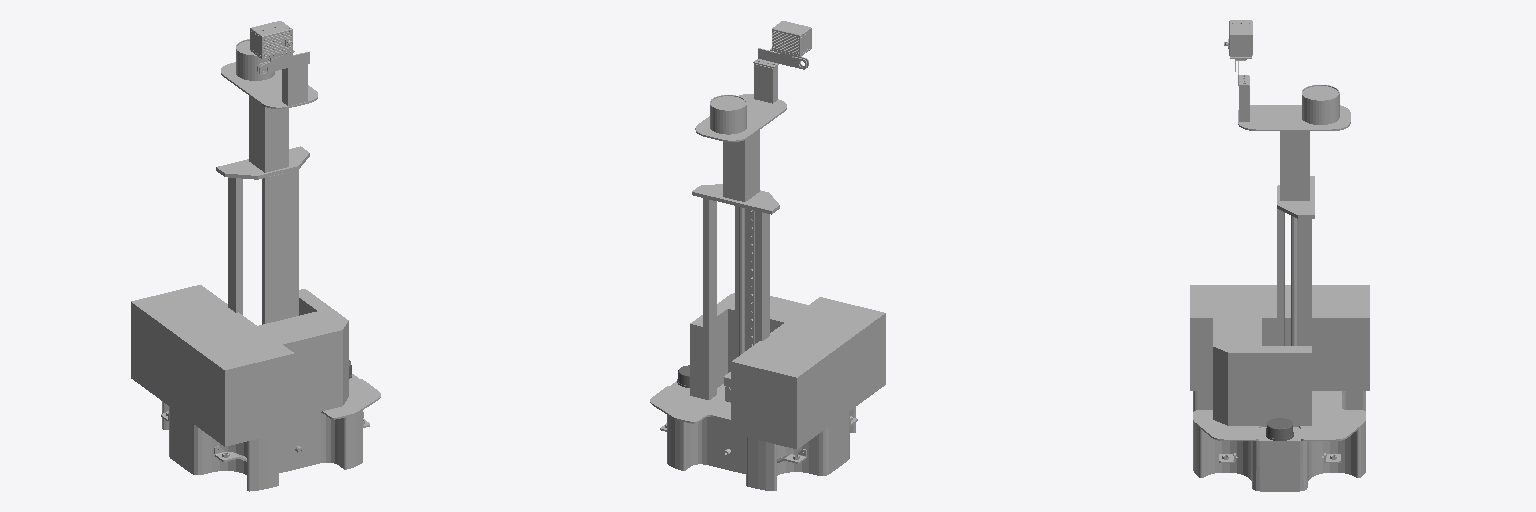
robot.urdf — WholeUrdfV7_1:
<?xml version="1.0" encoding="utf-8"?>
<!-- This URDF was automatically created by SolidWorks to URDF Exporter! Originally created by [author] ([email redacted]) 
     Commit Version: 1.5.1-0-g916b5db  Build Version: 1.5.7152.31018
     For more information, please see http://wiki.ros.org/sw_urdf_exporter -->
<robot
  name="WholeUrdfV7_1">
  <link
    name="Base_link">
    <inertial>
      <origin
        xyz="-0.044436 -0.0062652 0.2648"
        rpy="0 0 0" />
      <mass
        value="58.651" />
      <inertia
        ixx="0.94847"
        ixy="0.095512"
        ixz="0.0011811"
        iyy="0.93891"
        iyz="3.2417E-06"
        izz="1.4338" />
    </inertial>
    <visual>
      <origin
        xyz="0 0 0"
        rpy="0 0 0" />
      <geometry>
        <mesh
          filename="package://WholeUrdfV7_1/meshes/Base_link.STL" />
      </geometry>
      <material
        name="">
        <color
          rgba="0.75294 0.75294 0.75294 1" />
      </material>
    </visual>
    <collision>
      <origin
        xyz="0 0 0"
        rpy="0 0 0" />
      <geometry>
        <mesh
          filename="package://WholeUrdfV7_1/meshes/Base_link.STL" />
      </geometry>
    </collision>
  </link>
  <link
    name="Radar_2D">
    <inertial>
      <origin
        xyz="3.81358176767543E-05 0.0168839488939113 5.55414040220947E-09"
        rpy="0 0 0" />
      <mass
        value="0.196744590422997" />
      <inertia
        ixx="8.3896262005527E-05"
        ixy="1.07929084151387E-07"
        ixz="-3.29780769807581E-11"
        iyy="0.000128231684683343"
        iyz="-1.07899976052585E-11"
        izz="8.42188760618159E-05" />
    </inertial>
    <visual>
      <origin
        xyz="0 0 0"
        rpy="0 0 0" />
      <geometry>
        <mesh
          filename="package://WholeUrdfV7_1/meshes/Radar_2D.STL" />
      </geometry>
      <material
        name="">
        <color
          rgba="0.498039215686275 0.498039215686275 0.498039215686275 1" />
      </material>
    </visual>
    <collision>
      <origin
        xyz="0 0 0"
        rpy="0 0 0" />
      <geometry>
        <mesh
          filename="package://WholeUrdfV7_1/meshes/Radar_2D.STL" />
      </geometry>
    </collision>
  </link>
  <joint
    name="JT_Radar_2D"
    type="fixed">
    <origin
      xyz="0.212 0 0.1475"
      rpy="1.5708 0 -3.1416" />
    <parent
      link="Base_link" />
    <child
      link="Radar_2D" />
    <axis
      xyz="0 0 0" />
  </joint>
  <link
    name="ArmBase">
    <inertial>
      <origin
        xyz="-0.0213735915688368 -0.000303857997027306 -0.023239809881092"
        rpy="0 0 0" />
      <mass
        value="1.92525017908569" />
      <inertia
        ixx="0.0042883271151622"
        ixy="2.36727747261914E-06"
        ixz="-0.000111008140398769"
        iyy="0.00317248222624626"
        iyz="3.33448756395564E-06"
        izz="0.00186223637582919" />
    </inertial>
    <visual>
      <origin
        xyz="0 0 0"
        rpy="0 0 0" />
      <geometry>
        <mesh
          filename="package://WholeUrdfV7_1/meshes/ArmBase.STL" />
      </geometry>
      <material
        name="">
        <color
          rgba="0.752941176470588 0.752941176470588 0.752941176470588 1" />
      </material>
    </visual>
    <collision>
      <origin
        xyz="0 0 0"
        rpy="0 0 0" />
      <geometry>
        <mesh
          filename="package://WholeUrdfV7_1/meshes/ArmBase.STL" />
      </geometry>
    </collision>
  </link>
  <joint
    name="JT_ArmBase"
    type="prismatic">
    <origin
      xyz="0.031926 0.0756 0.3625"
      rpy="0 0 1.5708" />
    <parent
      link="Base_link" />
    <child
      link="ArmBase" />
    <axis
      xyz="0 0 1" />
    <limit
      lower="0"
      upper="0.3"
      effort="0"
      velocity="0" />
  </joint>
  <link
    name="UniWheelBase_LB">
    <inertial>
      <origin
        xyz="0.0182260960322877 2.77555756156289E-17 -0.0287708999844922"
        rpy="0 0 0" />
      <mass
        value="0.0847351495375796" />
      <inertia
        ixx="3.49474283390519E-05"
        ixy="3.57316634759339E-20"
        ixz="-1.16340041790673E-05"
        iyy="6.07135705376021E-05"
        iyz="1.55453116498476E-20"
        izz="3.34756139191196E-05" />
    </inertial>
    <visual>
      <origin
        xyz="0 0 0"
        rpy="0 0 0" />
      <geometry>
        <mesh
          filename="package://WholeUrdfV7_1/meshes/UniWheelBase_LB.STL" />
      </geometry>
      <material
        name="">
        <color
          rgba="0.752941176470588 0.752941176470588 0.752941176470588 1" />
      </material>
    </visual>
    <collision>
      <origin
        xyz="0 0 0"
        rpy="0 0 0" />
      <geometry>
        <mesh
          filename="package://WholeUrdfV7_1/meshes/UniWheelBase_LB.STL" />
      </geometry>
    </collision>
  </link>
  <joint
    name="JT_UniWheelBase_LB"
    type="continuous">
    <origin
      xyz="-0.200000000000008 0.14349999999999 0"
      rpy="3.14159265358979 0 -3.14159265358974" />
    <parent
      link="Base_link" />
    <child
      link="UniWheelBase_LB" />
    <axis
      xyz="0 0 1" />
  </joint>
  <link
    name="UniWheel_LB">
    <inertial>
      <origin
        xyz="3.81426299069648E-08 -2.14332611381263E-08 -1.63217898641044E-08"
        rpy="0 0 0" />
      <mass
        value="0.182722986137927" />
      <inertia
        ixx="6.49983805484529E-05"
        ixy="4.06903456327858E-11"
        ixz="-5.914560273148E-11"
        iyy="0.000123033645333284"
        iyz="-1.60428918574936E-11"
        izz="6.5000658486138E-05" />
    </inertial>
    <visual>
      <origin
        xyz="0 0 0"
        rpy="0 0 0" />
      <geometry>
        <mesh
          filename="package://WholeUrdfV7_1/meshes/UniWheel_LB.STL" />
      </geometry>
      <material
        name="">
        <color
          rgba="0.752941176470588 0.752941176470588 0.752941176470588 1" />
      </material>
    </visual>
    <collision>
      <origin
        xyz="0 0 0"
        rpy="0 0 0" />
      <geometry>
        <mesh
          filename="package://WholeUrdfV7_1/meshes/UniWheel_LB.STL" />
      </geometry>
    </collision>
  </link>
  <joint
    name="JT_UniWheel_LB"
    type="continuous">
    <origin
      xyz="0.024 0 -0.0155"
      rpy="3.14159265358979 1.5707963267949 0" />
    <parent
      link="UniWheelBase_LB" />
    <child
      link="UniWheel_LB" />
    <axis
      xyz="0 1 0" />
  </joint>
  <link
    name="UniWheelBase_RB">
    <inertial>
      <origin
        xyz="0.0182260960322876 2.77555756156289E-17 -0.0287708999844922"
        rpy="0 0 0" />
      <mass
        value="0.0847351495375796" />
      <inertia
        ixx="3.49474283390519E-05"
        ixy="3.12437677540417E-20"
        ixz="-1.16340041790674E-05"
        iyy="6.07135705376021E-05"
        iyz="5.18171751242525E-21"
        izz="3.34756139191196E-05" />
    </inertial>
    <visual>
      <origin
        xyz="0 0 0"
        rpy="0 0 0" />
      <geometry>
        <mesh
          filename="package://WholeUrdfV7_1/meshes/UniWheelBase_RB.STL" />
      </geometry>
      <material
        name="">
        <color
          rgba="0.752941176470588 0.752941176470588 0.752941176470588 1" />
      </material>
    </visual>
    <collision>
      <origin
        xyz="0 0 0"
        rpy="0 0 0" />
      <geometry>
        <mesh
          filename="package://WholeUrdfV7_1/meshes/UniWheelBase_RB.STL" />
      </geometry>
    </collision>
  </link>
  <joint
    name="JT_UniWheelBase_RB"
    type="continuous">
    <origin
      xyz="-0.199999999999992 -0.14350000000001 0"
      rpy="-3.14159265358979 0 -3.14159265358974" />
    <parent
      link="Base_link" />
    <child
      link="UniWheelBase_RB" />
    <axis
      xyz="0 0 1" />
  </joint>
  <link
    name="UniWheel_RB">
    <inertial>
      <origin
        xyz="3.81426299086995E-08 -2.14332611658818E-08 -1.632178989186E-08"
        rpy="0 0 0" />
      <mass
        value="0.182722986137927" />
      <inertia
        ixx="6.49983805484528E-05"
        ixy="4.0690345180762E-11"
        ixz="-5.91456027302949E-11"
        iyy="0.000123033645333284"
        iyz="-1.60428918134392E-11"
        izz="6.5000658486138E-05" />
    </inertial>
    <visual>
      <origin
        xyz="0 0 0"
        rpy="0 0 0" />
      <geometry>
        <mesh
          filename="package://WholeUrdfV7_1/meshes/UniWheel_RB.STL" />
      </geometry>
      <material
        name="">
        <color
          rgba="0.752941176470588 0.752941176470588 0.752941176470588 1" />
      </material>
    </visual>
    <collision>
      <origin
        xyz="0 0 0"
        rpy="0 0 0" />
      <geometry>
        <mesh
          filename="package://WholeUrdfV7_1/meshes/UniWheel_RB.STL" />
      </geometry>
    </collision>
  </link>
  <joint
    name="JT_UniWheel_RB"
    type="continuous">
    <origin
      xyz="0.024 0 -0.0155"
      rpy="0 1.5707963267949 0" />
    <parent
      link="UniWheelBase_RB" />
    <child
      link="UniWheel_RB" />
    <axis
      xyz="0 1 0" />
  </joint>
  <link
    name="UniWheelBase_RF">
    <inertial>
      <origin
        xyz="0.0182260960322877 0 -0.0287708999844922"
        rpy="0 0 0" />
      <mass
        value="0.0847351495375795" />
      <inertia
        ixx="3.49474283390519E-05"
        ixy="3.4880166385261E-20"
        ixz="-1.16340041790674E-05"
        iyy="6.07135705376022E-05"
        iyz="1.7847571585088E-20"
        izz="3.34756139191196E-05" />
    </inertial>
    <visual>
      <origin
        xyz="0 0 0"
        rpy="0 0 0" />
      <geometry>
        <mesh
          filename="package://WholeUrdfV7_1/meshes/UniWheelBase_RF.STL" />
      </geometry>
      <material
        name="">
        <color
          rgba="0.752941176470588 0.752941176470588 0.752941176470588 1" />
      </material>
    </visual>
    <collision>
      <origin
        xyz="0 0 0"
        rpy="0 0 0" />
      <geometry>
        <mesh
          filename="package://WholeUrdfV7_1/meshes/UniWheelBase_RF.STL" />
      </geometry>
    </collision>
  </link>
  <joint
    name="JT_UniWheelBase_RF"
    type="continuous">
    <origin
      xyz="0.200000000000008 -0.14349999999999 0"
      rpy="3.14159265358979 0 -3.14159265358974" />
    <parent
      link="Base_link" />
    <child
      link="UniWheelBase_RF" />
    <axis
      xyz="0 0 1" />
  </joint>
  <link
    name="UniWheel_RF">
    <inertial>
      <origin
        xyz="3.81426299034954E-08 -2.14332611658818E-08 -1.632178989186E-08"
        rpy="0 0 0" />
      <mass
        value="0.182722986137927" />
      <inertia
        ixx="6.49983805484531E-05"
        ixy="4.06903453117738E-11"
        ixz="-5.91456027575944E-11"
        iyy="0.000123033645333284"
        iyz="-1.6042891784853E-11"
        izz="6.50006584861382E-05" />
    </inertial>
    <visual>
      <origin
        xyz="0 0 0"
        rpy="0 0 0" />
      <geometry>
        <mesh
          filename="package://WholeUrdfV7_1/meshes/UniWheel_RF.STL" />
      </geometry>
      <material
        name="">
        <color
          rgba="0.752941176470588 0.752941176470588 0.752941176470588 1" />
      </material>
    </visual>
    <collision>
      <origin
        xyz="0 0 0"
        rpy="0 0 0" />
      <geometry>
        <mesh
          filename="package://WholeUrdfV7_1/meshes/UniWheel_RF.STL" />
      </geometry>
    </collision>
  </link>
  <joint
    name="JT_UniWheel_RF"
    type="continuous">
    <origin
      xyz="0.024 0 -0.0155"
      rpy="3.14159265358979 1.5707963267949 0" />
    <parent
      link="UniWheelBase_RF" />
    <child
      link="UniWheel_RF" />
    <axis
      xyz="0 1 0" />
  </joint>
  <link
    name="UniWheelBase_LF">
    <inertial>
      <origin
        xyz="0.0182260960322876 2.77555756156289E-17 -0.0287708999844923"
        rpy="0 0 0" />
      <mass
        value="0.0847351495375795" />
      <inertia
        ixx="3.49474283390519E-05"
        ixy="3.73180431348779E-20"
        ixz="-1.16340041790673E-05"
        iyy="6.07135705376021E-05"
        iyz="1.77432943949963E-20"
        izz="3.34756139191196E-05" />
    </inertial>
    <visual>
      <origin
        xyz="0 0 0"
        rpy="0 0 0" />
      <geometry>
        <mesh
          filename="package://WholeUrdfV7_1/meshes/UniWheelBase_LF.STL" />
      </geometry>
      <material
        name="">
        <color
          rgba="0.752941176470588 0.752941176470588 0.752941176470588 1" />
      </material>
    </visual>
    <collision>
      <origin
        xyz="0 0 0"
        rpy="0 0 0" />
      <geometry>
        <mesh
          filename="package://WholeUrdfV7_1/meshes/UniWheelBase_LF.STL" />
      </geometry>
    </collision>
  </link>
  <joint
    name="JT_UniWheelBase_LF"
    type="continuous">
    <origin
      xyz="0.199999999999993 0.14350000000001 0"
      rpy="3.14159265358979 0 -3.14159265358974" />
    <parent
      link="Base_link" />
    <child
      link="UniWheelBase_LF" />
    <axis
      xyz="0 0 1" />
  </joint>
  <link
    name="UniWheel_LF">
    <inertial>
      <origin
        xyz="3.81426298913523E-08 -2.14332611936374E-08 -1.63217899196155E-08"
        rpy="0 0 0" />
      <mass
        value="0.182722986137927" />
      <inertia
        ixx="6.49983805484538E-05"
        ixy="4.0690345293948E-11"
        ixz="-5.9145602742195E-11"
        iyy="0.000123033645333284"
        iyz="-1.60428918440839E-11"
        izz="6.5000658486139E-05" />
    </inertial>
    <visual>
      <origin
        xyz="0 0 0"
        rpy="0 0 0" />
      <geometry>
        <mesh
          filename="package://WholeUrdfV7_1/meshes/UniWheel_LF.STL" />
      </geometry>
      <material
        name="">
        <color
          rgba="0.752941176470588 0.752941176470588 0.752941176470588 1" />
      </material>
    </visual>
    <collision>
      <origin
        xyz="0 0 0"
        rpy="0 0 0" />
      <geometry>
        <mesh
          filename="package://WholeUrdfV7_1/meshes/UniWheel_LF.STL" />
      </geometry>
    </collision>
  </link>
  <joint
    name="JT_UniWheel_LF"
    type="continuous">
    <origin
      xyz="0.024 0 -0.0155"
      rpy="0 1.5708 0" />
    <parent
      link="UniWheelBase_LF" />
    <child
      link="UniWheel_LF" />
    <axis
      xyz="0 1 0" />
  </joint>
  <link
    name="Radar_3D">
    <inertial>
      <origin
        xyz="-0.0332405985861663 0.050106525400968 0.0344980769248998"
        rpy="0 0 0" />
      <mass
        value="0.545701622476093" />
      <inertia
        ixx="0.000474175468942812"
        ixy="-8.13024320400887E-06"
        ixz="-2.4739021752185E-06"
        iyy="0.000470938119822533"
        iyz="-1.92648566828374E-05"
        izz="0.000248534793624654" />
    </inertial>
    <visual>
      <origin
        xyz="0 0 0"
        rpy="0 0 0" />
      <geometry>
        <mesh
          filename="package://WholeUrdfV7_1/meshes/Radar_3D.STL" />
      </geometry>
      <material
        name="">
        <color
          rgba="0.752941176470588 0.752941176470588 0.752941176470588 1" />
      </material>
    </visual>
    <collision>
      <origin
        xyz="0 0 0"
        rpy="0 0 0" />
      <geometry>
        <mesh
          filename="package://WholeUrdfV7_1/meshes/Radar_3D.STL" />
      </geometry>
    </collision>
  </link>
  <joint
    name="JT_Radar_3D"
    type="fixed">
    <origin
      xyz="-0.071645 -0.072795 1.121"
      rpy="1.5708 0 1.5708" />
    <parent
      link="Base_link" />
    <child
      link="Radar_3D" />
    <axis
      xyz="1 0 0" />
    <limit
      lower="0"
      upper="1.5708"
      effort="0"
      velocity="0" />
  </joint>
  <link
    name="PanTiltLink1">
    <inertial>
      <origin
        xyz="-2.77555756156289E-17 4.85722573273506E-17 0.0224194936251978"
        rpy="0 0 0" />
      <mass
        value="0.125638006386442" />
      <inertia
        ixx="5.79840369760145E-05"
        ixy="-4.95095367251032E-09"
        ixz="-2.06554334975402E-20"
        iyy="0.000158965664023197"
        iyz="-9.64796384693134E-20"
        izz="0.000150893790612493" />
    </inertial>
    <visual>
      <origin
        xyz="0 0 0"
        rpy="0 0 0" />
      <geometry>
        <mesh
          filename="package://WholeUrdfV7_1/meshes/PanTiltLink1.STL" />
      </geometry>
      <material
        name="">
        <color
          rgba="0.796078431372549 0.823529411764706 0.937254901960784 1" />
      </material>
    </visual>
    <collision>
      <origin
        xyz="0 0 0"
        rpy="0 0 0" />
      <geometry>
        <mesh
          filename="package://WholeUrdfV7_1/meshes/PanTiltLink1.STL" />
      </geometry>
    </collision>
  </link>
  <joint
    name="JT_PanTiltLink1"
    type="continuous">
    <origin
      xyz="0.033001 0.10829 1.066"
      rpy="0 0 1.5708" />
    <parent
      link="Base_link" />
    <child
      link="PanTiltLink1" />
    <axis
      xyz="0 0 1" />
  </joint>
  <link
    name="Head">
    <inertial>
      <origin
        xyz="3.010974464486E-05 0.0710465587049527 -0.000410628804097812"
        rpy="0 0 0" />
      <mass
        value="1.09222259990928" />
      <inertia
        ixx="0.00171098700756019"
        ixy="1.83620169698393E-09"
        ixz="1.47977806998734E-07"
        iyy="0.00490559716768774"
        iyz="1.09057098306672E-06"
        izz="0.00518583633786296" />
    </inertial>
    <visual>
      <origin
        xyz="0 0 0"
        rpy="0 0 0" />
      <geometry>
        <mesh
          filename="package://WholeUrdfV7_1/meshes/Head.STL" />
      </geometry>
      <material
        name="">
        <color
          rgba="0.752941176470588 0.752941176470588 0.752941176470588 1" />
      </material>
    </visual>
    <collision>
      <origin
        xyz="0 0 0"
        rpy="0 0 0" />
      <geometry>
        <mesh
          filename="package://WholeUrdfV7_1/meshes/Head.STL" />
      </geometry>
    </collision>
  </link>
  <joint
    name="JT_Head"
    type="continuous">
    <origin
      xyz="0 0.00025 0.0413"
      rpy="1.5708 0 3.1416" />
    <parent
      link="PanTiltLink1" />
    <child
      link="Head" />
    <axis
      xyz="1 0 0" />
  </joint>
  <link
    name="DriWheel_R">
    <inertial>
      <origin
        xyz="-1.3898E-08 -0.032105 6.1246E-09"
        rpy="0 0 0" />
      <mass
        value="0.54895" />
      <inertia
        ixx="0.00059053"
        ixy="-1.3442E-09"
        ixz="8.0241E-09"
        iyy="0.0010159"
        iyz="2.4655E-09"
        izz="0.00059052" />
    </inertial>
    <visual>
      <origin
        xyz="0 0 0"
        rpy="0 0 0" />
      <geometry>
        <mesh
          filename="package://WholeUrdfV7_1/meshes/DriWheel_R.STL" />
      </geometry>
      <material
        name="">
        <color
          rgba="0.75294 0.75294 0.75294 1" />
      </material>
    </visual>
    <collision>
      <origin
        xyz="0 0 0"
        rpy="0 0 0" />
      <geometry>
        <mesh
          filename="package://WholeUrdfV7_1/meshes/DriWheel_R.STL" />
      </geometry>
    </collision>
  </link>
  <joint
    name="JT_DriWheel_R"
    type="continuous">
    <origin
      xyz="0 -0.1719 0.056"
      rpy="0 0 0" />
    <parent
      link="Base_link" />
    <child
      link="DriWheel_R" />
    <axis
      xyz="0 1 0" />
  </joint>
  <link
    name="DriWheel_L">
    <inertial>
      <origin
        xyz="-1.2972E-08 0.032105 -7.5981E-09"
        rpy="0 0 0" />
      <mass
        value="0.54895" />
      <inertia
        ixx="0.00059054"
        ixy="5.3364E-10"
        ixz="-1.3793E-09"
        iyy="0.0010159"
        iyz="2.752E-09"
        izz="0.00059051" />
    </inertial>
    <visual>
      <origin
        xyz="0 0 0"
        rpy="0 0 0" />
      <geometry>
        <mesh
          filename="package://WholeUrdfV7_1/meshes/DriWheel_L.STL" />
      </geometry>
      <material
        name="">
        <color
          rgba="0.75294 0.75294 0.75294 1" />
      </material>
    </visual>
    <collision>
      <origin
        xyz="0 0 0"
        rpy="0 0 0" />
      <geometry>
        <mesh
          filename="package://WholeUrdfV7_1/meshes/DriWheel_L.STL" />
      </geometry>
    </collision>
  </link>
  <joint
    name="JT_DriWheel_L"
    type="continuous">
    <origin
      xyz="0 0.1719 0.056"
      rpy="0 0 0" />
    <parent
      link="Base_link" />
    <child
      link="DriWheel_L" />
    <axis
      xyz="0 1 0" />
    <limit
      lower="0"
      upper="0"
      effort="0"
      velocity="0" />
  </joint>
</robot>

--- Render facts (derived) ---
3 views of the same robot in one strip: view 1: azimuth 30°, elevation 25°; view 2: azimuth 150°, elevation 25°; view 3: azimuth 270°, elevation 25° (orthographic).
Model WholeUrdfV7_1 with 16 links and 15 joints (12 continuous, 1 prismatic, 2 fixed), rooted at Base_link, posed every joint at zero.
Links seen in each view (by area): view 1: Base_link, Radar_3D; view 2: Base_link, Radar_3D; view 3: Base_link, Radar_3D, Radar_2D.
Link boxes in pixels (left/top/right/bottom): Base_link: left=131, top=39, right=380, bottom=491; Radar_3D: left=250, top=21, right=294, bottom=75; Base_link: left=650, top=48, right=885, bottom=490; Radar_3D: left=770, top=21, right=811, bottom=67; Base_link: left=1190, top=61, right=1369, bottom=491; Radar_3D: left=1224, top=20, right=1252, bottom=71; Radar_2D: left=1266, top=418, right=1293, bottom=440.
Bounding box of the posed robot: 0.5086 × 0.48 × 1.22 m (x, y, z).
Meshes: 16 distinct files referenced, 3 mesh visuals loaded (3 binary STL); not drawn: 13 (reference not matched to a file when rendering).